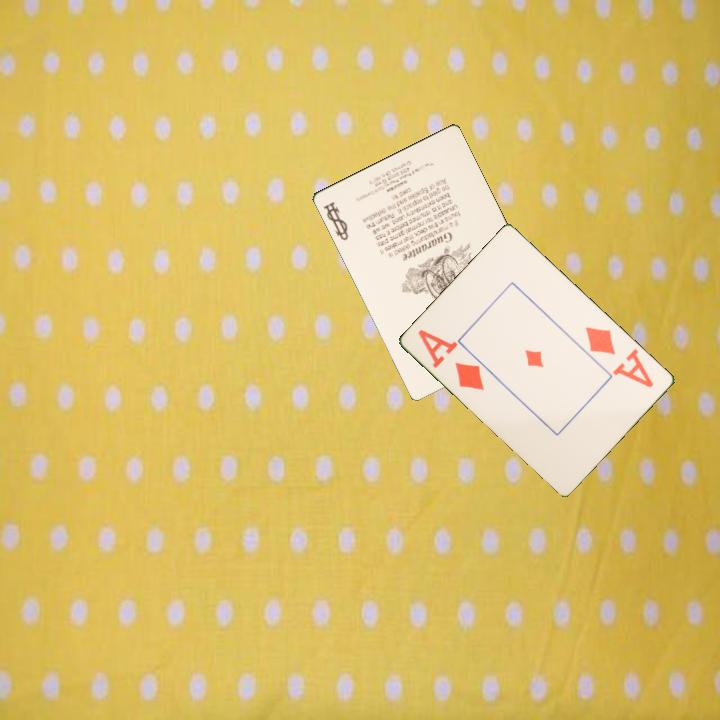Ad: (582, 323, 657, 391), (415, 325, 488, 393)
JK: (320, 198, 351, 243)
